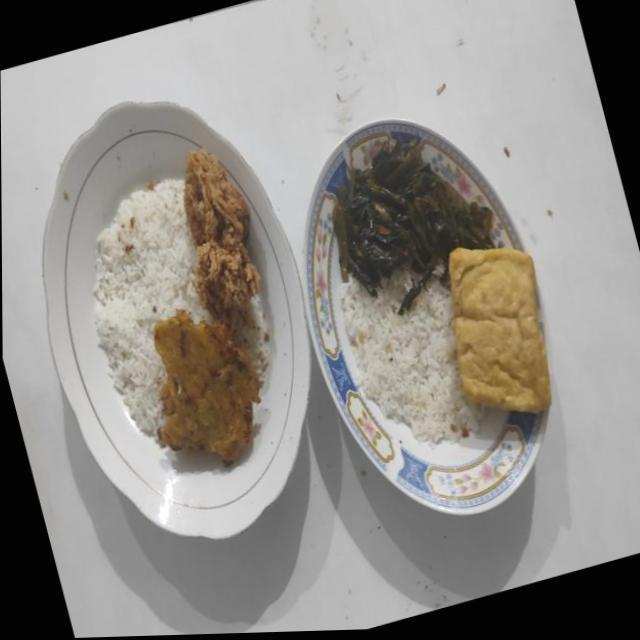nasi_putih: (93, 178, 213, 440), (339, 266, 484, 444), (227, 295, 270, 383)
tahu_goreng: (448, 247, 550, 412)
tumis_kangkung: (332, 140, 494, 314)
